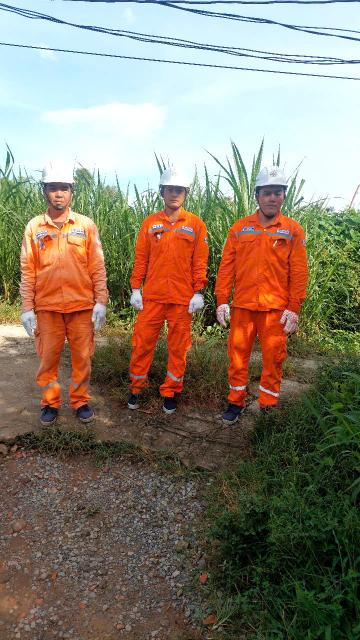gloves: (12, 310, 51, 337), (88, 303, 112, 332), (279, 306, 300, 334), (128, 293, 147, 315), (189, 290, 205, 314), (219, 303, 233, 327)
helmet: (149, 162, 203, 198), (249, 157, 295, 192), (33, 157, 74, 190)
shoes: (118, 383, 143, 414), (38, 402, 63, 427), (71, 400, 95, 424), (222, 400, 241, 430), (160, 387, 181, 414)
